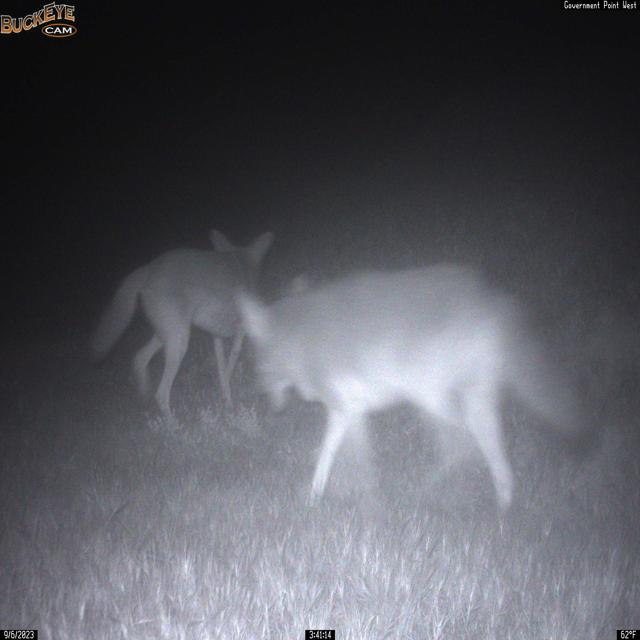coyote: (88, 227, 277, 426)
